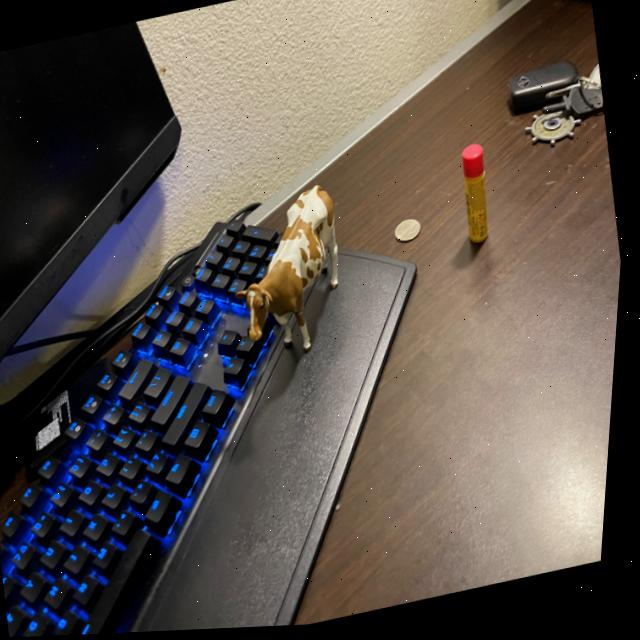cow: (229, 175, 357, 358)
